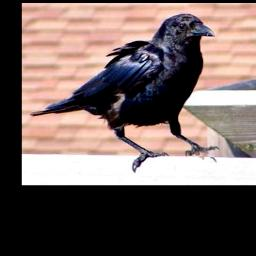Crow: (31, 13, 219, 173)
